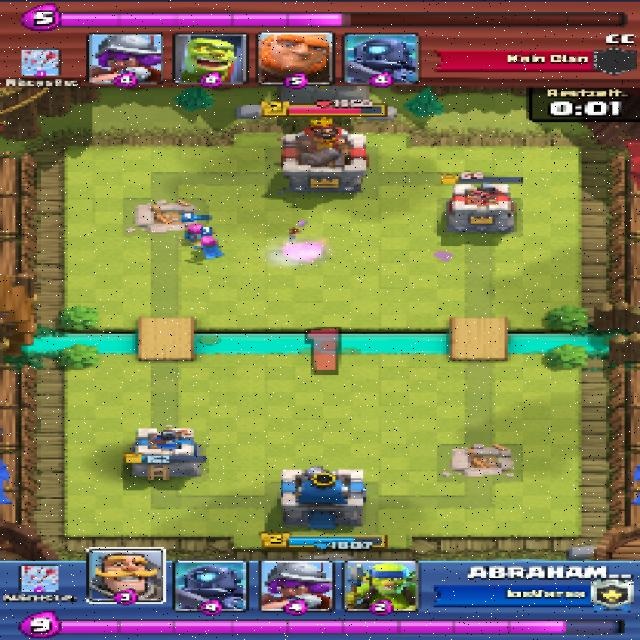Player-Archer: (190, 236, 230, 258), (177, 221, 212, 241)
